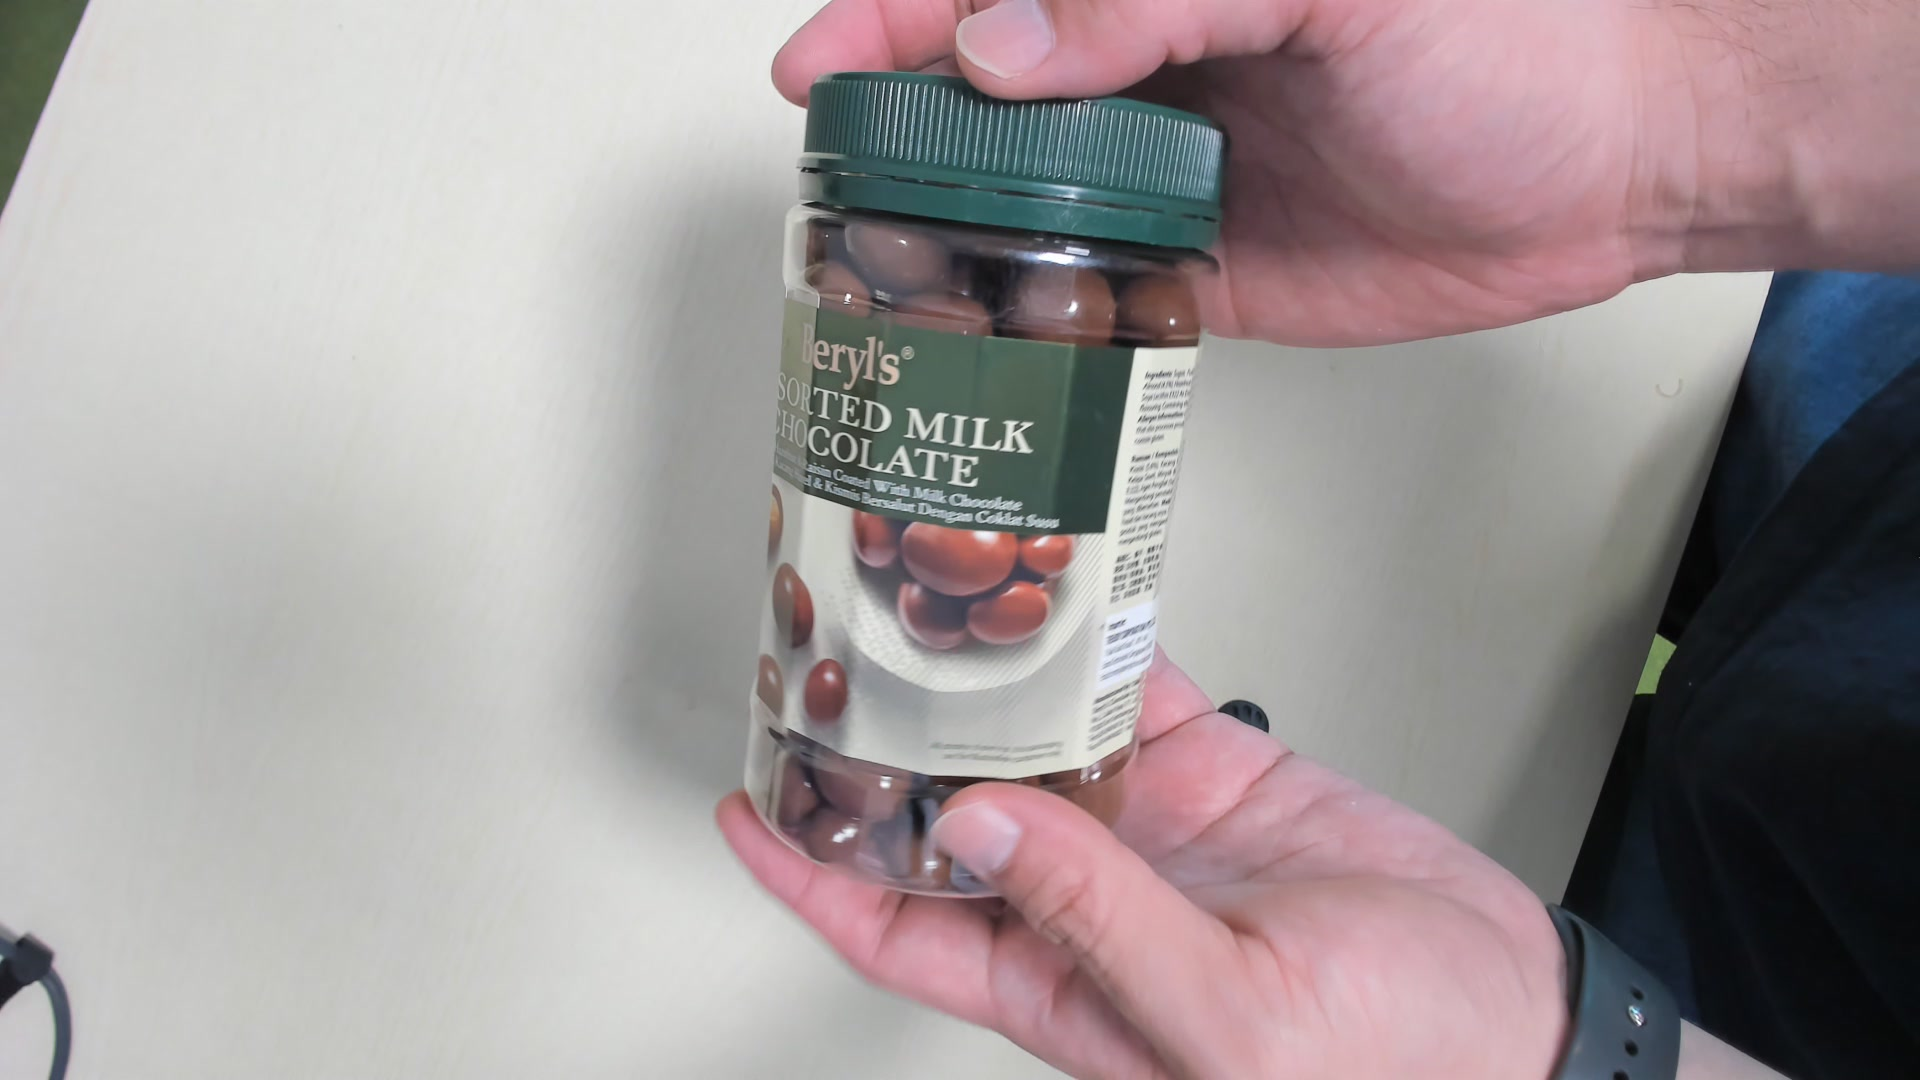SweetsChocolatesOthers_400-499g_Halal_Nonhealthy: (737, 73, 1221, 906)
